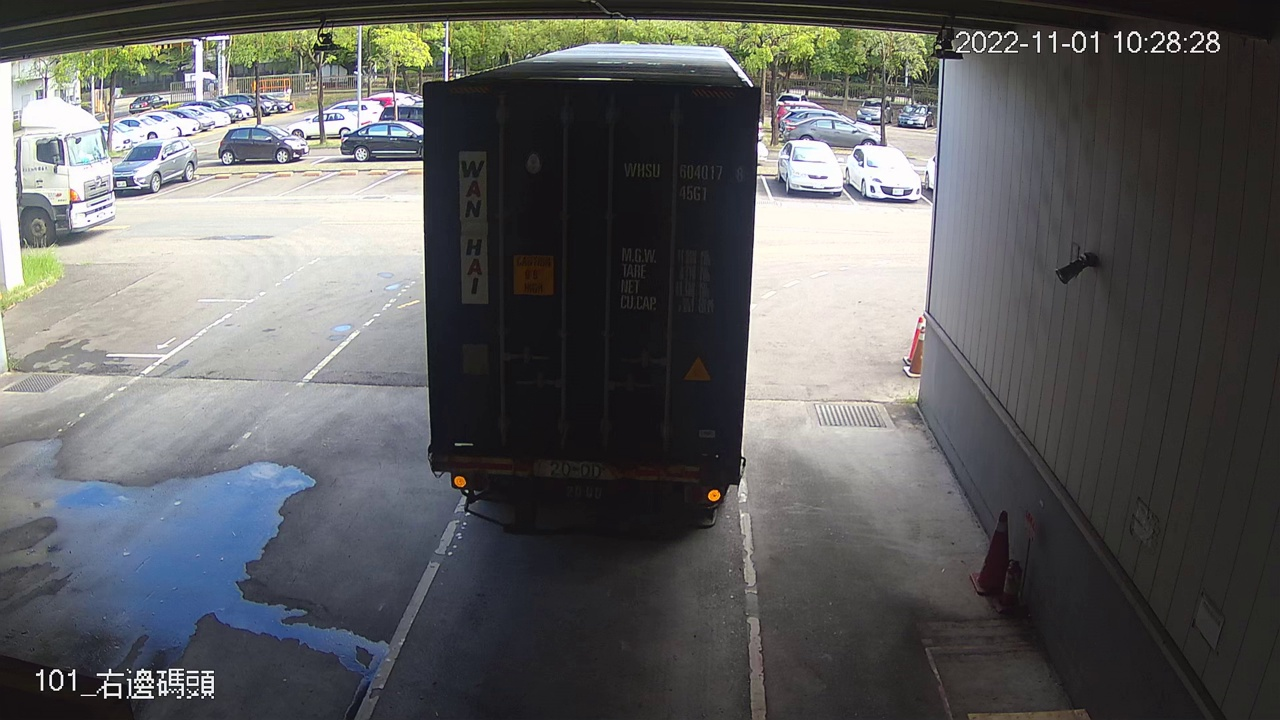container: (617, 152, 752, 208)
